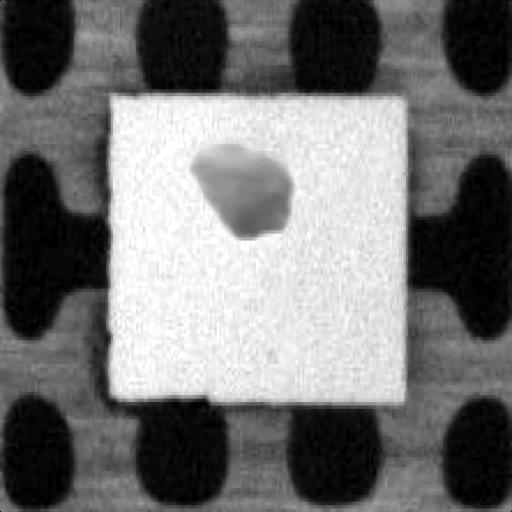DIE_INK: (184, 138, 290, 237)
